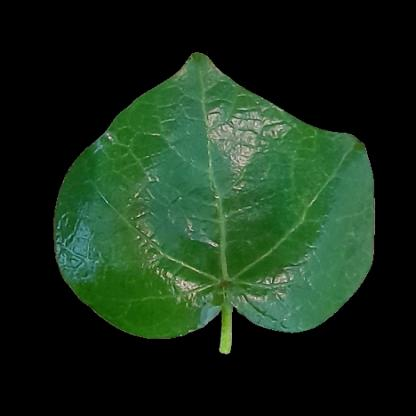healthy: (137, 119, 299, 301), (67, 185, 172, 290), (287, 158, 371, 273), (166, 85, 254, 137)
